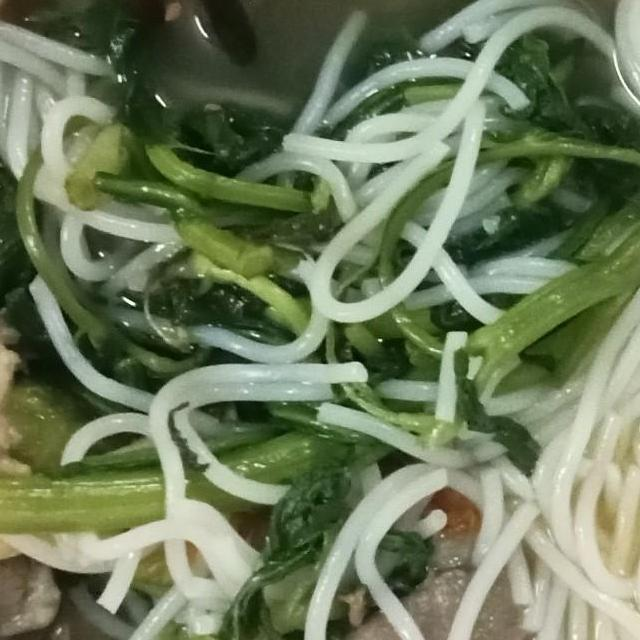bun: (217, 0, 634, 325), (15, 268, 378, 640), (481, 0, 640, 640), (283, 315, 559, 640), (0, 0, 206, 305)
